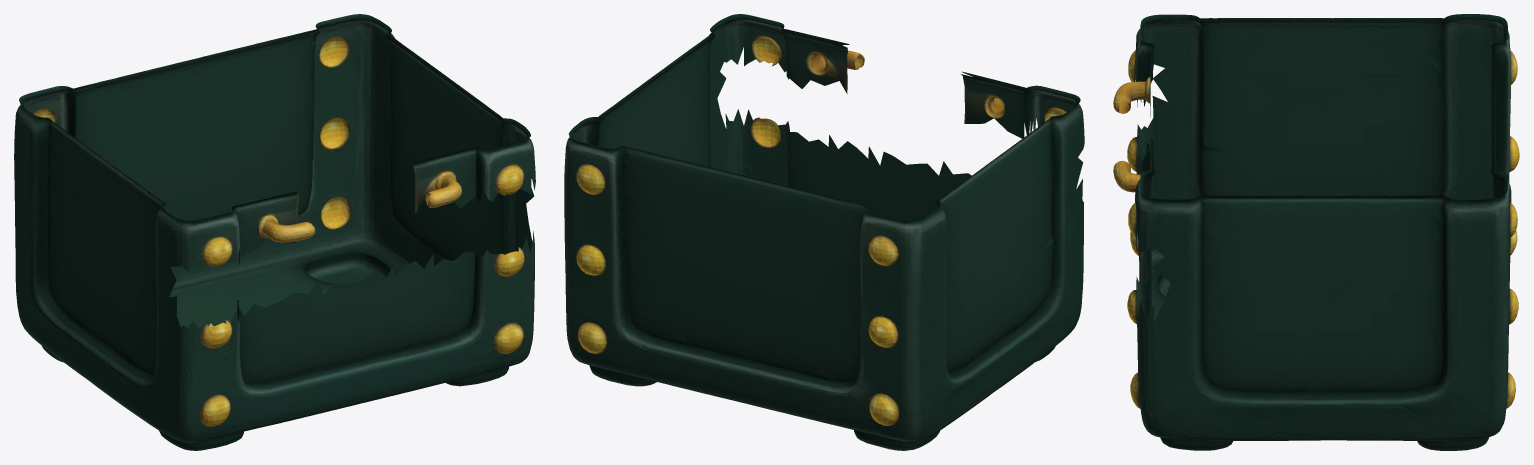
The model's file is chest_body.glb.
3 views of the same model, side by side, from view 1: azimuth 30°, elevation 25°; view 2: azimuth 150°, elevation 25°; view 3: azimuth 270°, elevation 25° (orthographic). The views are drawn at different scales.
Parts seen in each view (by area): view 1: source_surface_0; view 2: source_surface_0; view 3: source_surface_0.
Part boxes in pixels (box(x1,y1,x2,y2)): source_surface_0: box(14, 14, 535, 450); source_surface_0: box(564, 14, 1084, 450); source_surface_0: box(1113, 14, 1519, 450).
Size of the model in its own units: 0.1798 by 0.1154 by 0.1621.
1 material, 1 textured.
